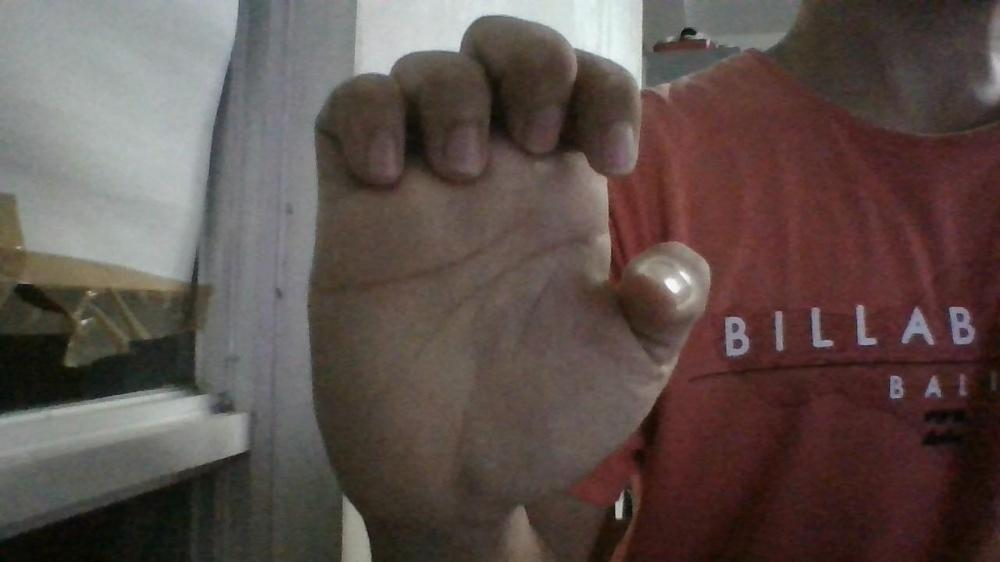e: (306, 11, 711, 516)
